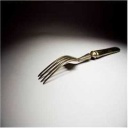fork: (33, 41, 128, 86)
